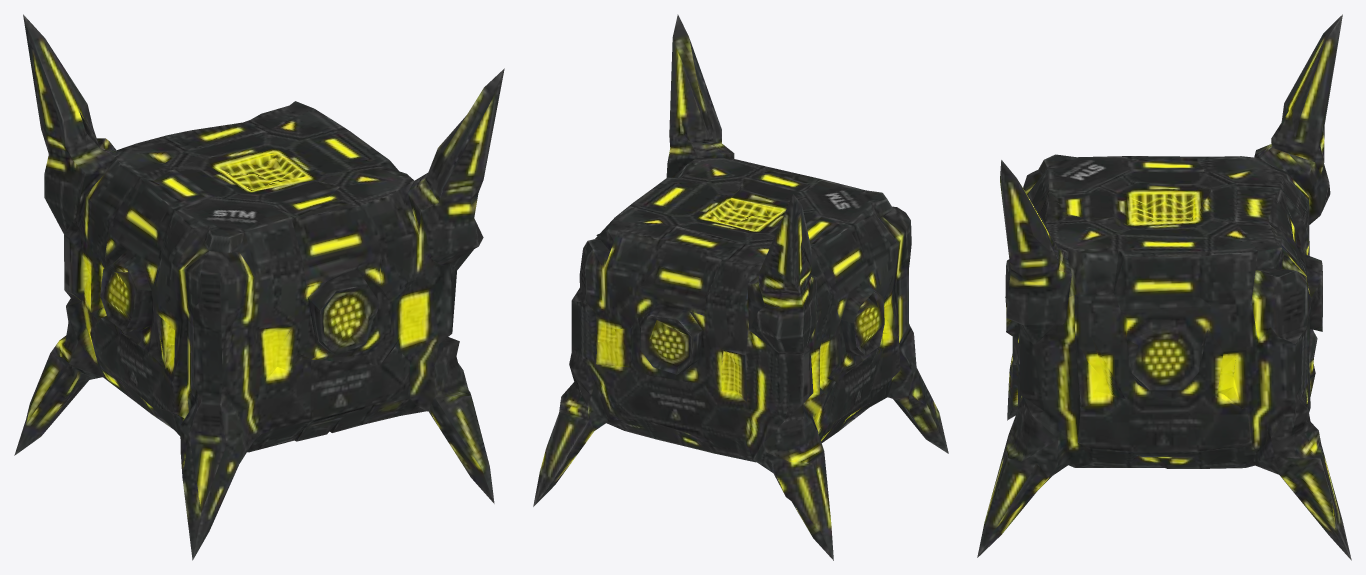
File: mine-stm.glb
3 renders of one model, left to right at view 1: azimuth 30°, elevation 25°; view 2: azimuth 150°, elevation 25°; view 3: azimuth 270°, elevation 25°, orthographic. The views are drawn at different scales.
Parts seen in each view (by area): view 1: mine-stm; view 2: mine-stm; view 3: mine-stm.
Boxes of the visible parts, box(x1,y1,x2,y2) form: mine-stm: box(14, 14, 504, 560); mine-stm: box(533, 14, 948, 560); mine-stm: box(977, 14, 1351, 560).
Bounding box in the file's own units: 2.48 × 3 × 2.49.
Materials: 1 (1 with a texture image).
